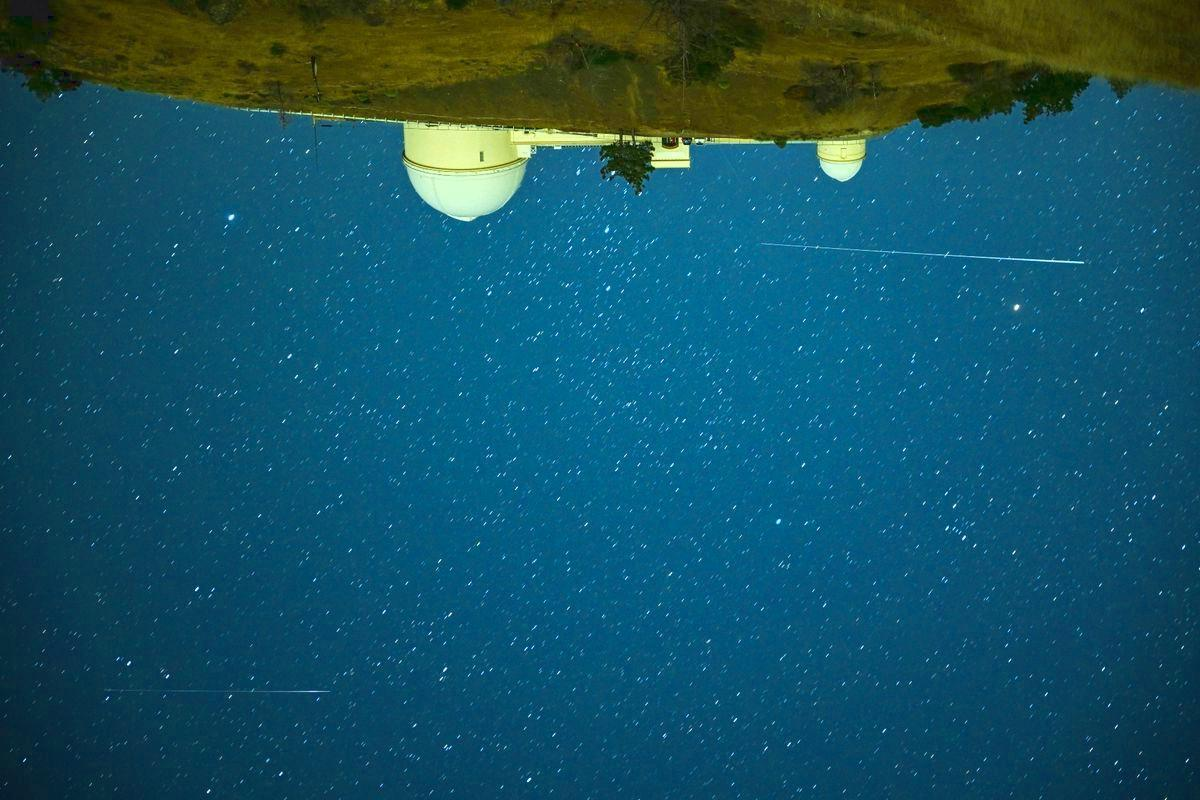meteorite: (768, 223, 1107, 274), (78, 663, 347, 708)
